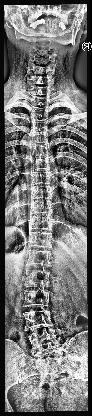Vertebrae: (28, 328, 60, 353), (22, 287, 52, 309), (24, 310, 54, 332), (26, 248, 54, 268), (24, 268, 52, 288), (29, 230, 55, 248), (29, 214, 55, 230), (31, 199, 56, 215), (32, 154, 54, 172), (32, 184, 54, 200), (30, 141, 51, 157), (32, 170, 54, 184), (30, 94, 51, 108), (30, 132, 50, 146), (30, 118, 49, 132), (30, 107, 50, 119)
